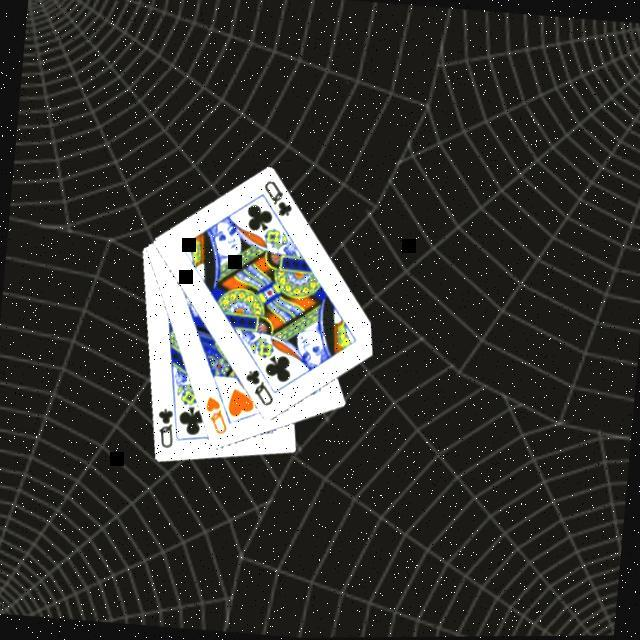QC: (254, 177, 295, 222), (237, 366, 277, 411), (149, 404, 177, 452)
QH: (196, 394, 230, 439)
